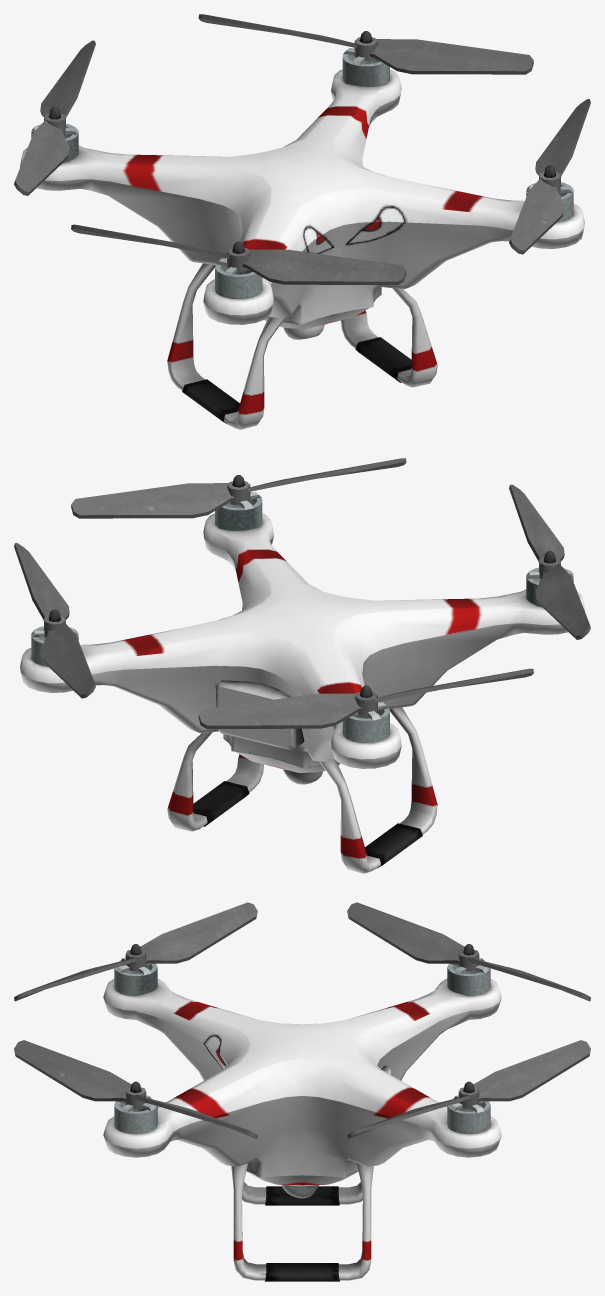
The model's file is Drone.FBX.
3 views of the same model, one above another, from view 1: azimuth 30°, elevation 25°; view 2: azimuth 150°, elevation 25°; view 3: azimuth 270°, elevation 25° (orthographic). The views are drawn at different scales.
Visible parts, largest first — view 1: Box001, Rotor1, rotor4, Rotor2, rotor3; view 2: Box001, rotor3, Rotor2, Rotor1, rotor4; view 3: Box001, Rotor1, rotor3, Rotor2, rotor4.
Part boxes in pixels (x1,y1,x2,y2): Box001: (20, 47, 584, 429); Rotor1: (198, 14, 533, 74); rotor4: (71, 224, 406, 284); Rotor2: (14, 40, 95, 195); rotor3: (509, 99, 590, 254); Box001: (20, 491, 584, 873); rotor3: (71, 458, 406, 518); Rotor2: (198, 668, 533, 728); Rotor1: (14, 543, 95, 698); rotor4: (509, 484, 590, 639); Box001: (103, 957, 501, 1281); Rotor1: (347, 1040, 590, 1138); rotor3: (14, 1040, 257, 1138); Rotor2: (347, 902, 590, 1001); rotor4: (14, 902, 257, 1001).
Size of the model in its own units: 851 by 393 by 907.
1 material, 1 textured.
